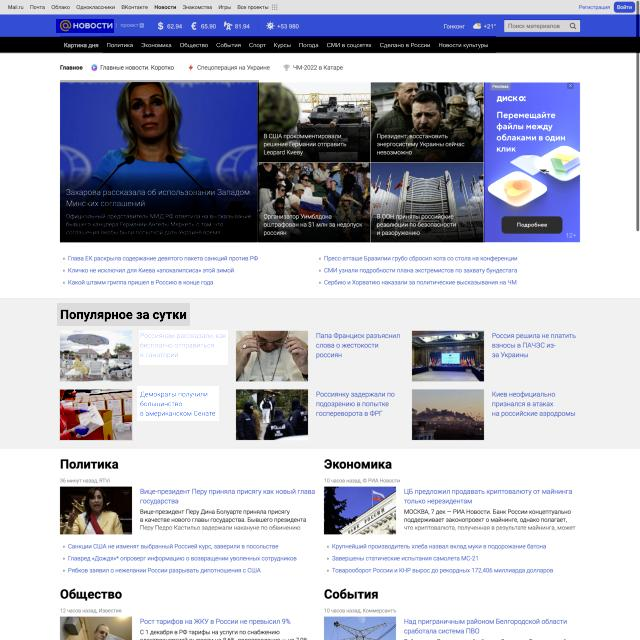CheckedTextView: (504, 19, 581, 32)
ImageView: (485, 81, 580, 243)
Input field: (139, 330, 228, 365), (137, 386, 219, 421)
bag: (0, 0, 640, 54)
breadcrumbs: (57, 303, 190, 326)
copy: (60, 80, 259, 242), (59, 389, 133, 441), (59, 331, 132, 383)
date picker: (56, 19, 114, 33)
decoration: (61, 36, 497, 53), (3, 2, 283, 12)
